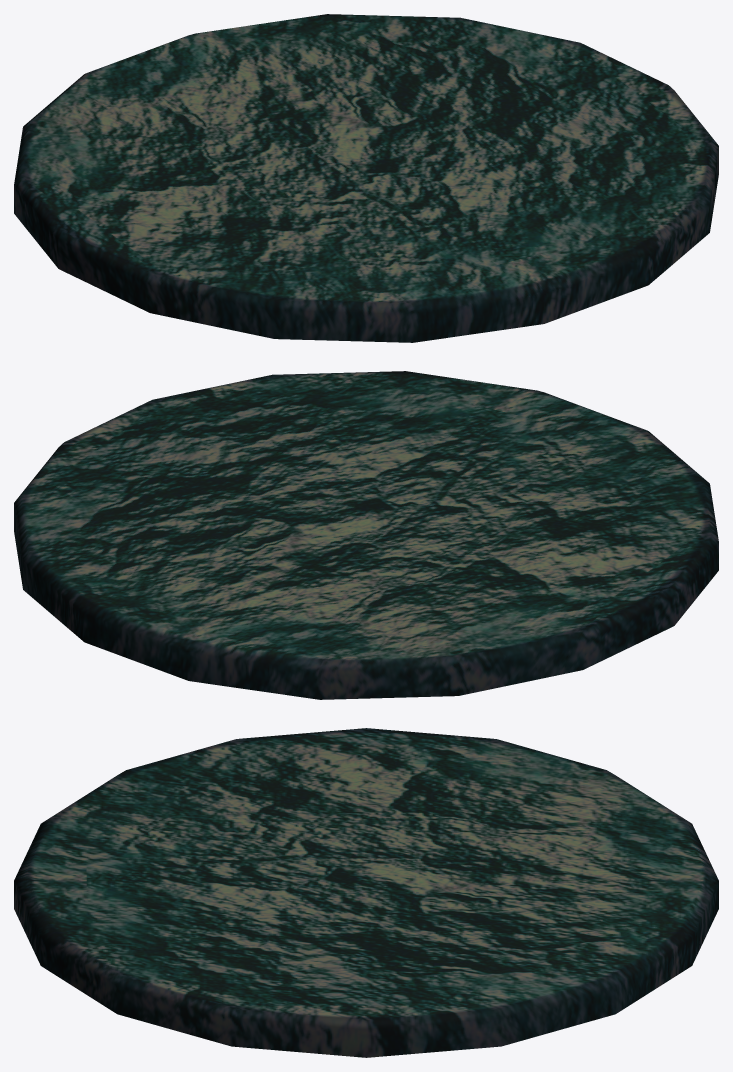
File: object_mass_min.fbx
3 renders of one model, top to bottom at view 1: azimuth 30°, elevation 25°; view 2: azimuth 150°, elevation 25°; view 3: azimuth 270°, elevation 25°, orthographic.
Parts seen in each view (by area): view 1: pCylinder1; view 2: pCylinder1; view 3: pCylinder1.
Boxes of the visible parts, bbox=[...] form: pCylinder1: bbox=[14, 14, 718, 342]; pCylinder1: bbox=[14, 371, 718, 699]; pCylinder1: bbox=[14, 728, 718, 1057].
Size of the model in its own units: 0.6576 by 0.0355 by 0.6576.
